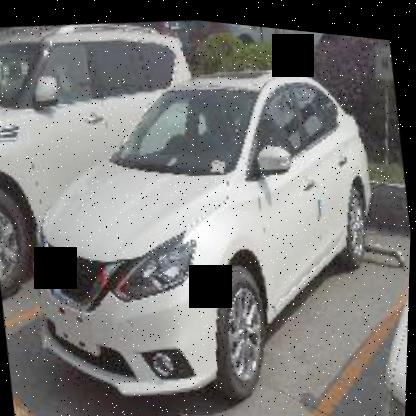not_emergency: (1, 36, 410, 415)
